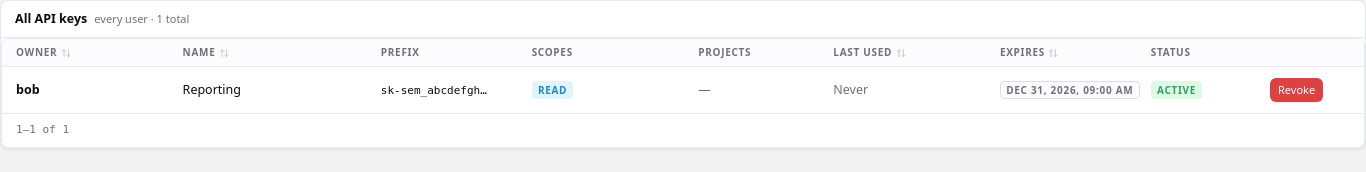
it: AllApiKeysCard › filters to one owner's keys when the owner is clicked
The image size is (1366, 172).
Click the button "bob" at [28, 90], box x1=16 y1=81 x2=40 y2=99
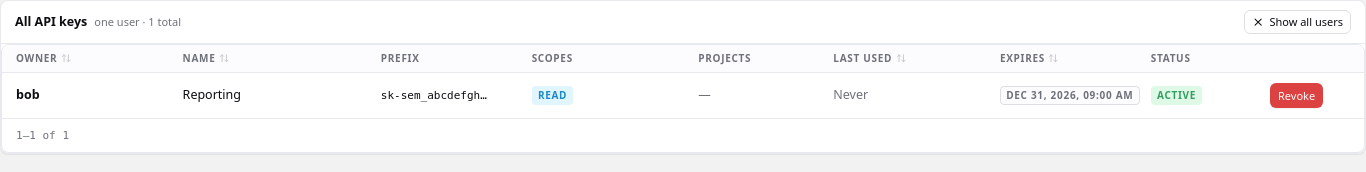
Now the button "Show all users" is shown, box x1=1244 y1=10 x2=1351 y2=34
